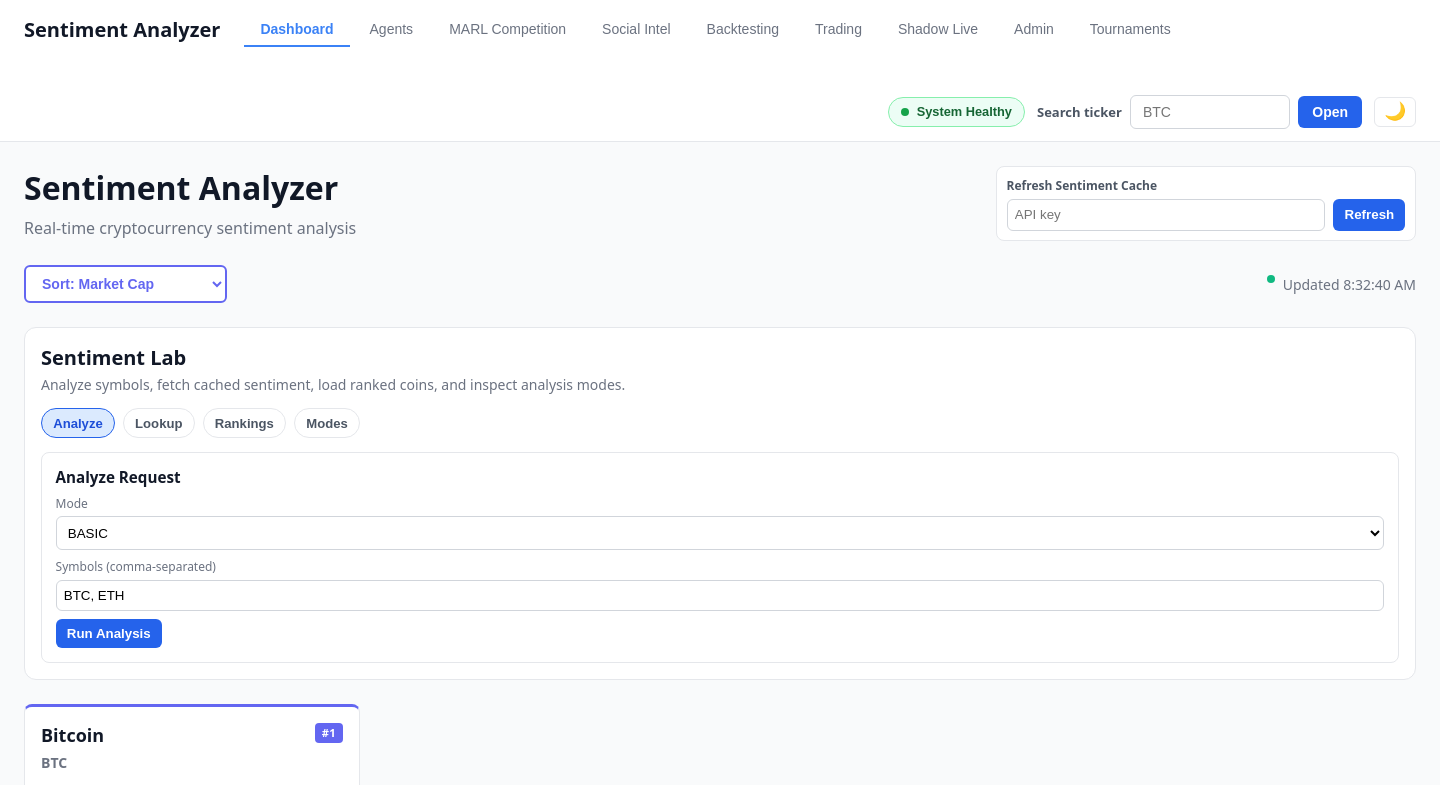
App detail modal › opens the detail modal from the top ticker search
Check: the heading "Bitcoin" is shown, box [41,723,104,747]
In the search field labelled "Search ticker": (1210, 112) [1130,95,1290,129], type "btc"
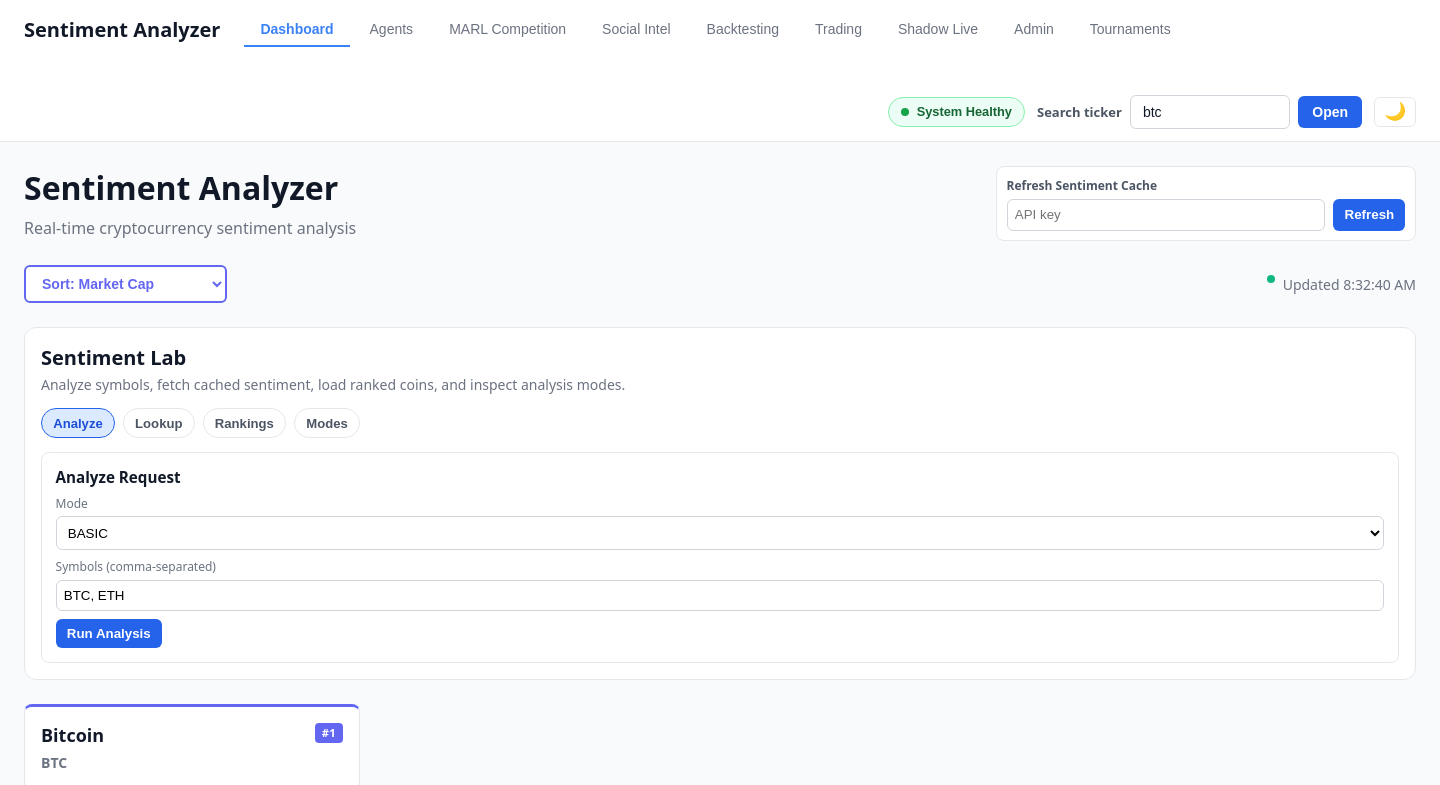
Click the button "Open": (1330, 112) [1298,96,1362,128]
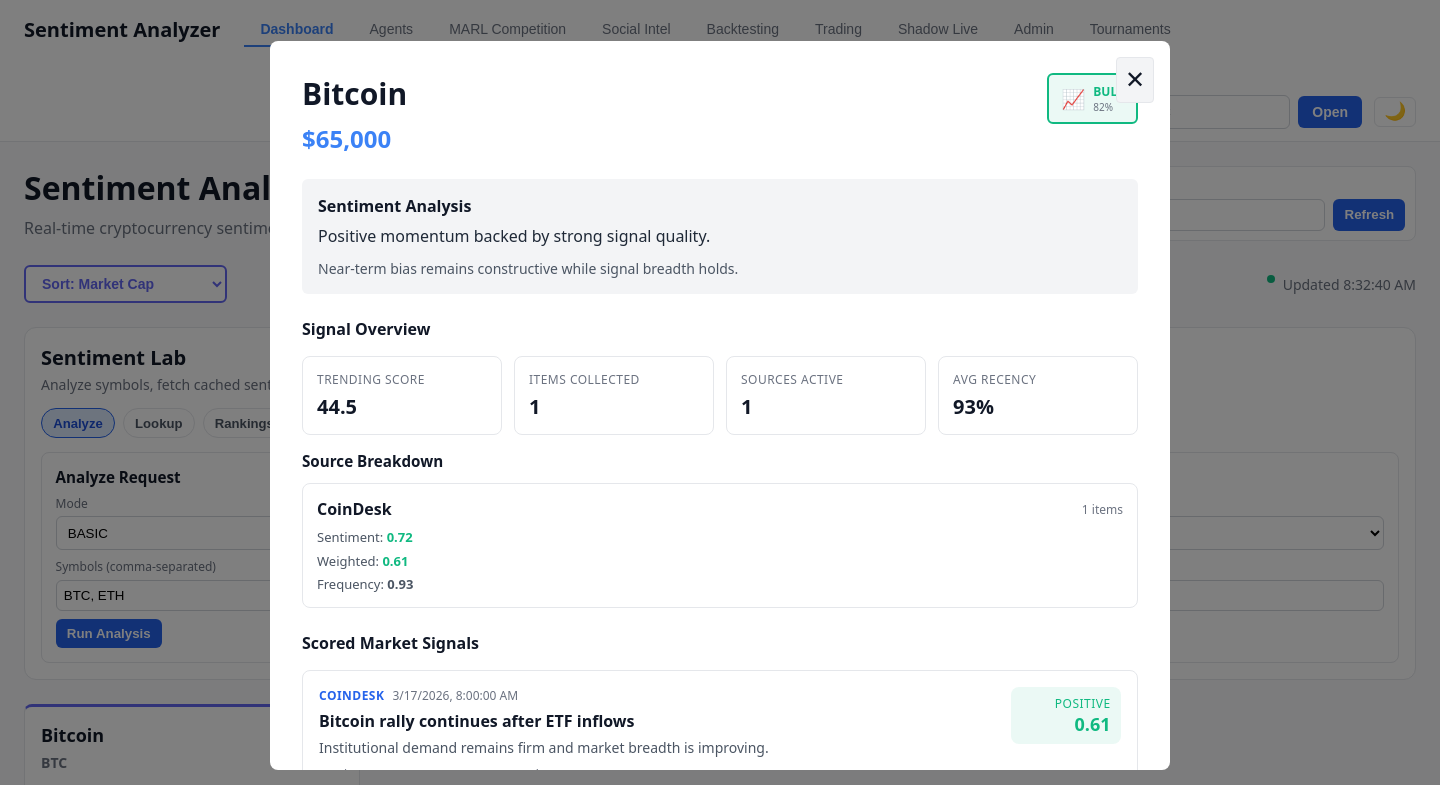
Check: the heading "Signal Overview" is shown, box [302,318,430,340]
Check: the heading "Scored Market Signals" is shown, box [302,632,479,654]
